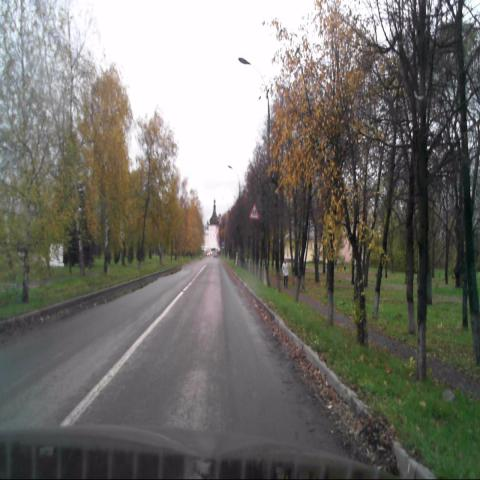1_23: (250, 204, 259, 219)
